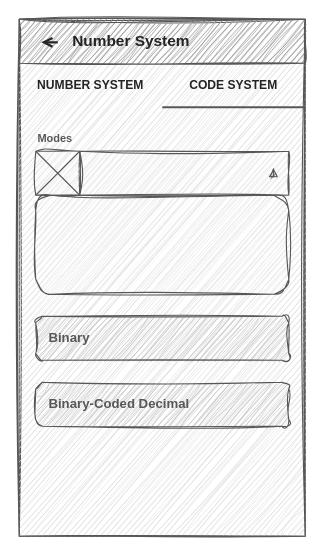
Some shapes in this 336 by 556 pixel diagram are drawn without their labels. Each missing label, with the centre of its shape:
"Binary ⇄ Binary Coded-Decimal Binary ⇄ Excess-3 Binary ⇄ Gray Code" belongs at (x=162, y=244).
"Binary ⇄ Binary-Coded Decimal" belongs at (x=184, y=172).
